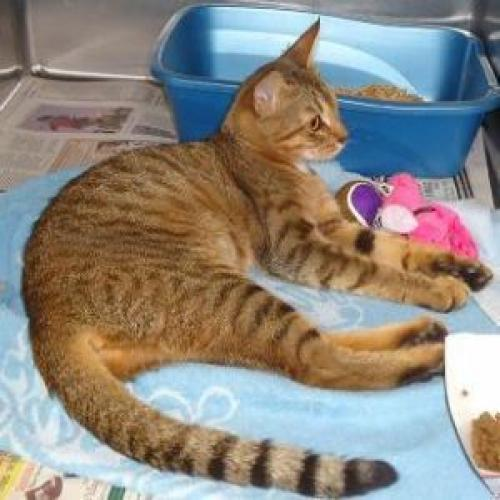cat-face: (239, 18, 366, 165)
